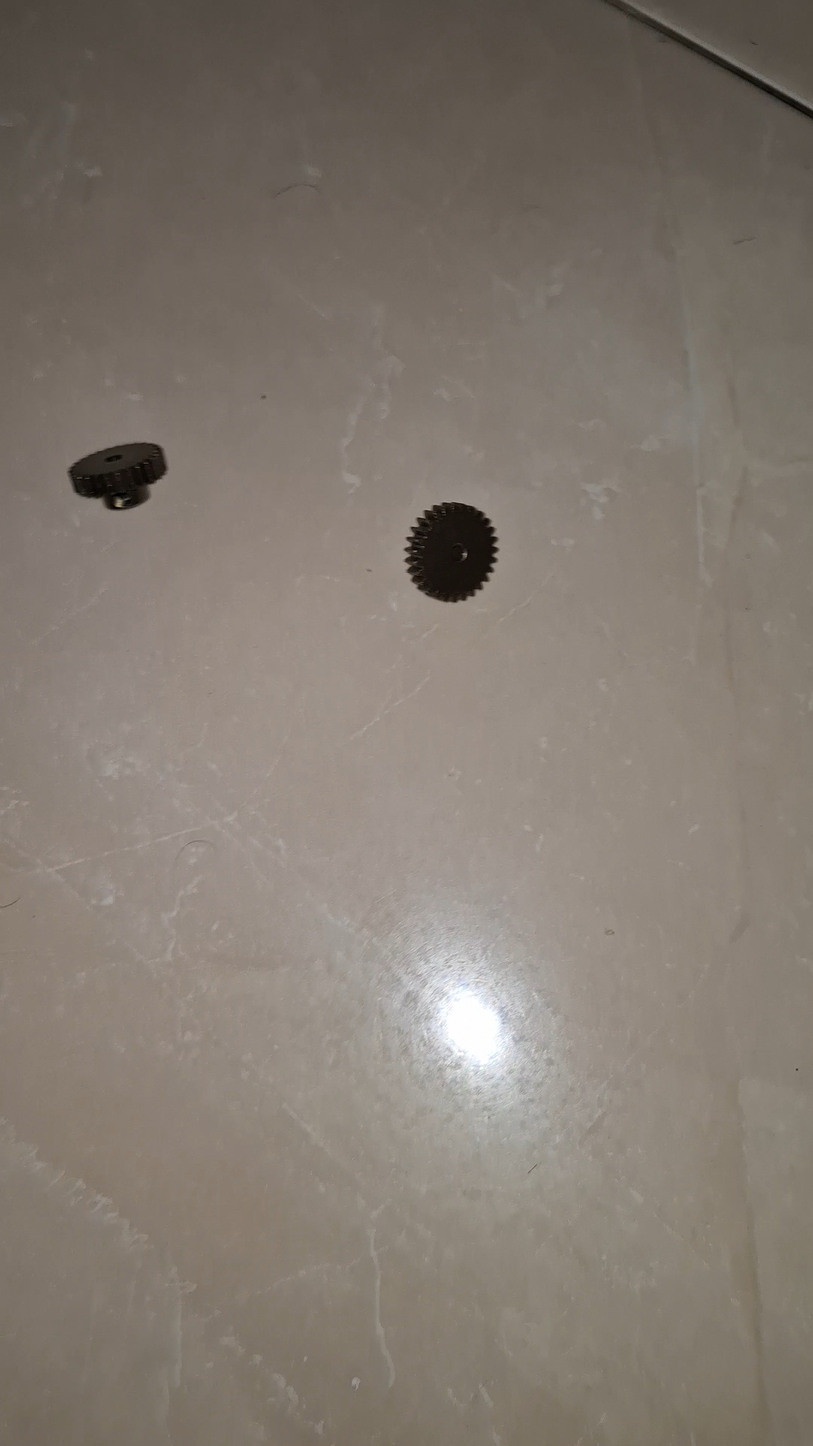spur gear: (406, 503, 497, 601), (69, 444, 165, 509)
